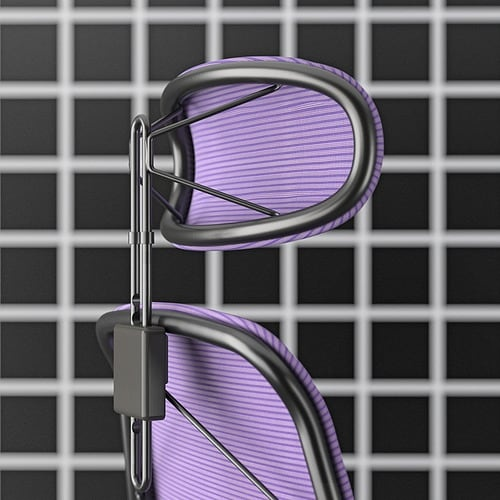obstacle: (96, 57, 382, 499)
